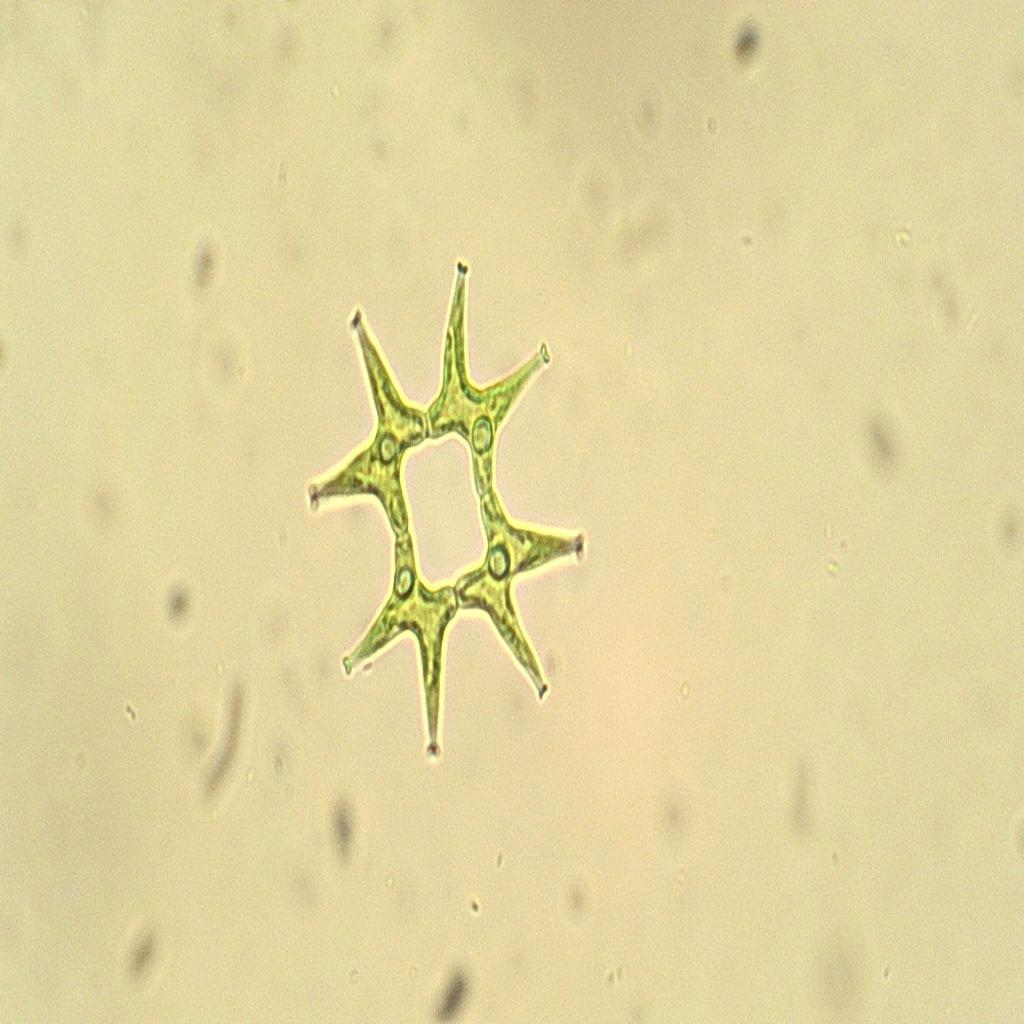Pediastrum_75O: (299, 235, 594, 777)
